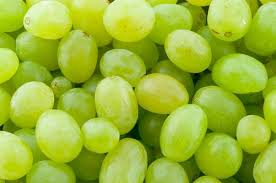Green grapes: (9, 9, 267, 181)
